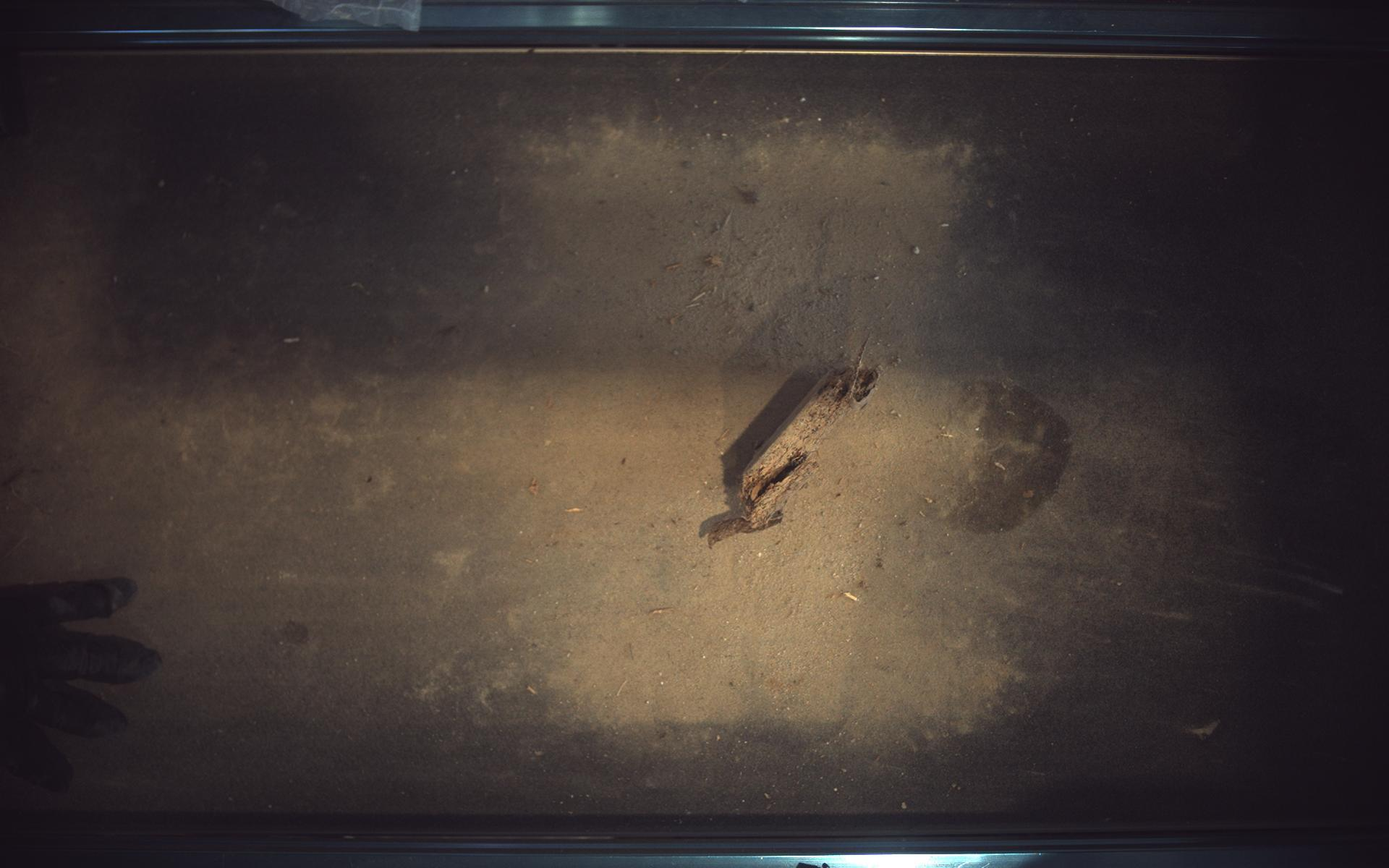wood: (708, 339, 881, 547)
